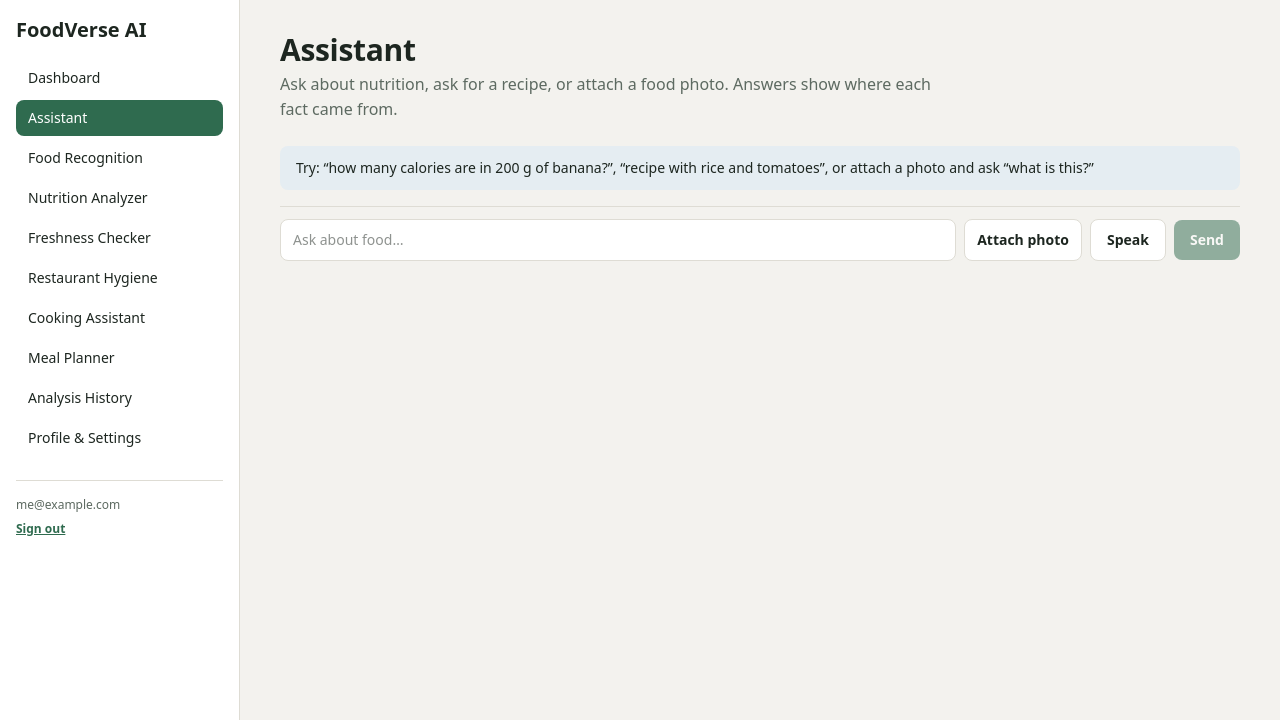
Test: assistant, history, settings › answers with labelled sources
This screenshot has width=1280, height=720.
Step 1. Type "calories in 200g banana" into the field named "Message" → (618, 240), box [280,219,956,261]
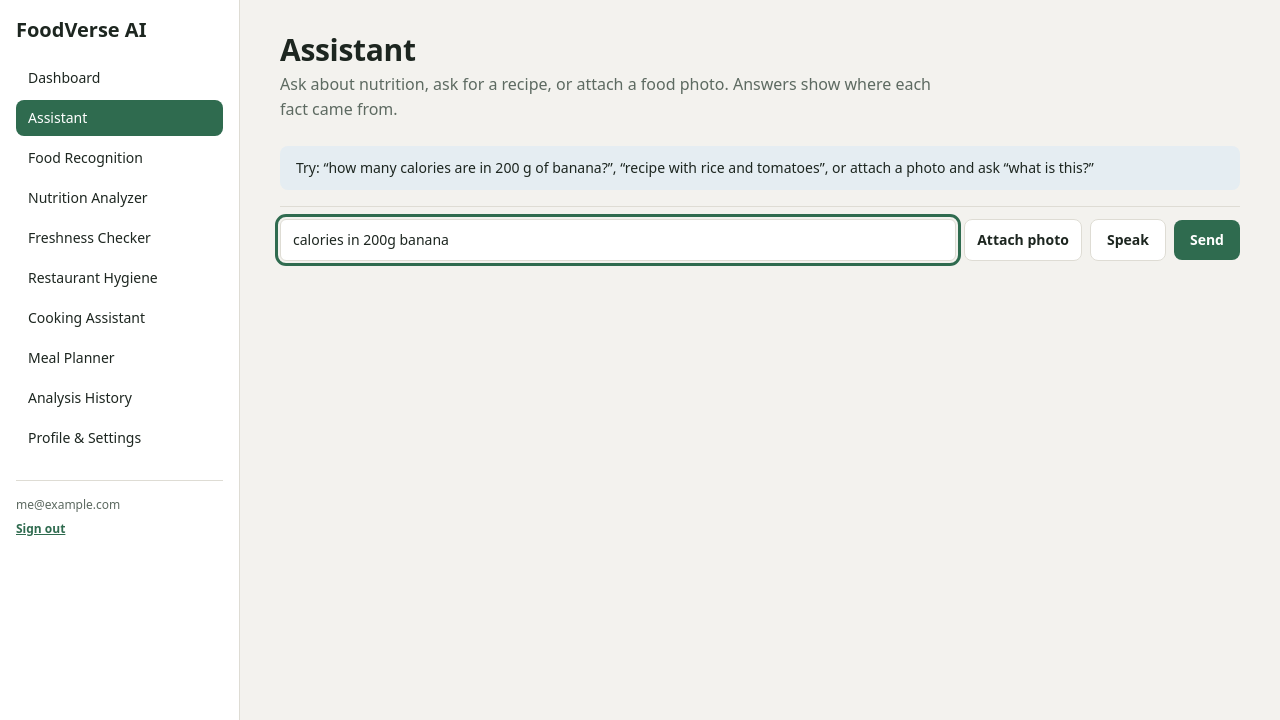
Step 2. Click the button "Send" → (1207, 240), box [1174,220,1240,260]
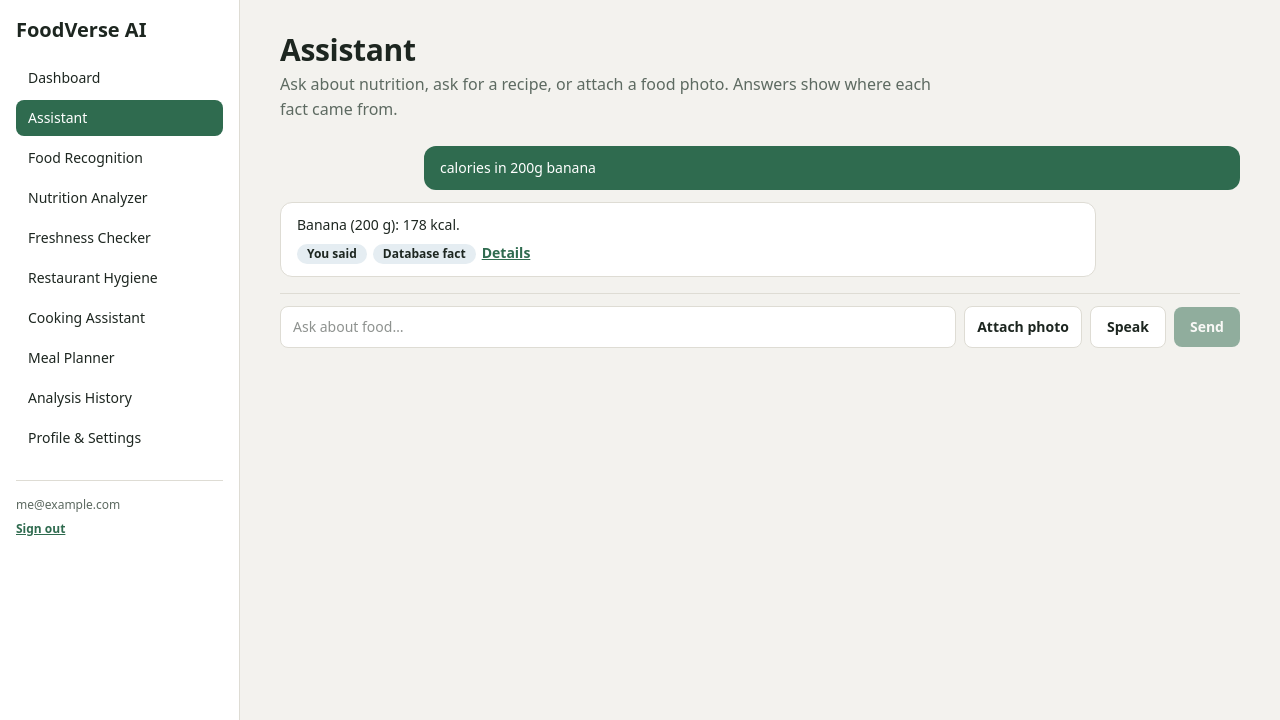
Now the text "Banana (200 g): 178 kcal." is shown, box [297,215,460,234]
Now the text "Database fact" is shown, box [373,244,476,264]
